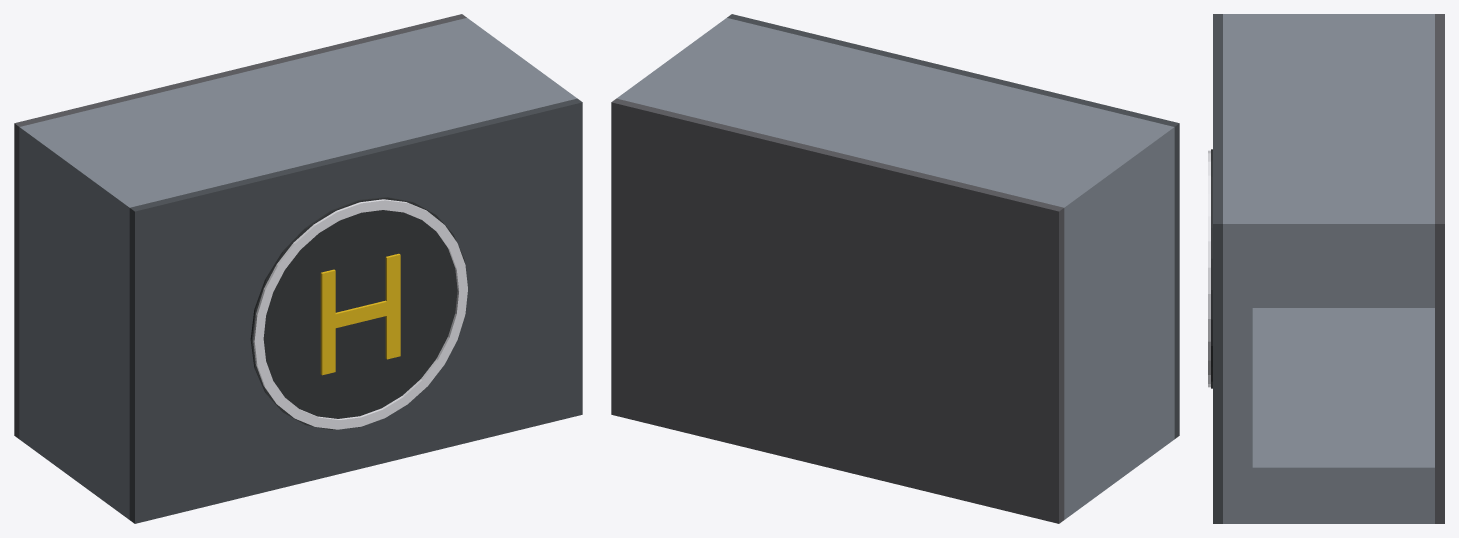
The model's file is deploy_station.obj.
The picture shows the model from 3 angles, left to right: view 1: azimuth 30°, elevation 25°; view 2: azimuth 150°, elevation 25°; view 3: azimuth 270°, elevation 25°; orthographic projection. The views are drawn at different scales.
Visible parts, largest first — view 1: deploy_station_roof, deploy_station_wall, deploy_station_pad, deploy_station_mark, deploy_station_floor, deploy_station_h; view 2: deploy_station_floor, deploy_station_wall, deploy_station_roof; view 3: deploy_station_wall, deploy_station_floor, deploy_station_roof, deploy_station_mark, deploy_station_pad.
Part boxes in pixels (<box>): deploy_station_roof: <box>129,98,582,523</box>; deploy_station_wall: <box>19,18,577,519</box>; deploy_station_pad: <box>250,197,467,429</box>; deploy_station_mark: <box>253,199,467,429</box>; deploy_station_floor: <box>14,14,466,438</box>; deploy_station_h: <box>320,253,400,375</box>; deploy_station_floor: <box>611,98,1064,523</box>; deploy_station_wall: <box>616,18,1174,519</box>; deploy_station_roof: <box>727,14,1179,438</box>; deploy_station_wall: <box>1223,14,1434,523</box>; deploy_station_floor: <box>1435,14,1444,523</box>; deploy_station_roof: <box>1213,14,1222,523</box>; deploy_station_mark: <box>1208,150,1210,387</box>; deploy_station_pad: <box>1211,149,1212,388</box>.
Size of the model in its own units: 6 by 4 by 2.86.
